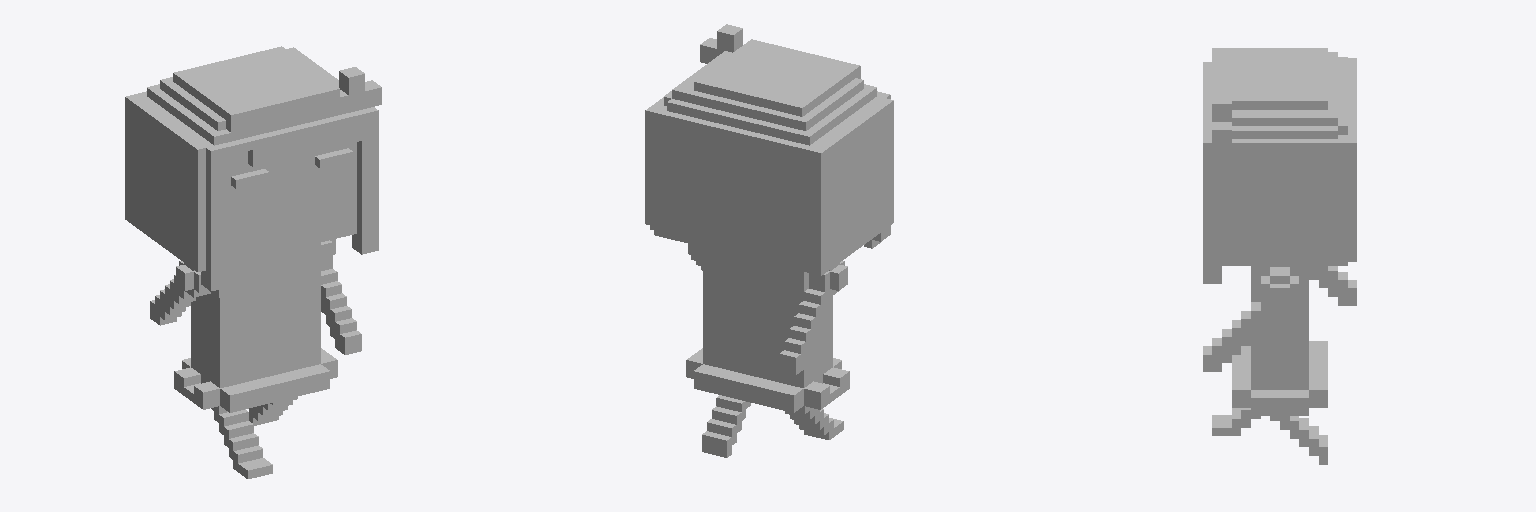
File: 1- Girl.obj
3 renders of one model, left to right at view 1: azimuth 30°, elevation 25°; view 2: azimuth 150°, elevation 25°; view 3: azimuth 270°, elevation 25°, orthographic.
Visible parts, largest first — view 1: character; view 2: character; view 3: character.
Part boxes in pixels (left/top/right/bottom): character: left=125, top=46, right=381, bottom=478; character: left=645, top=24, right=893, bottom=457; character: left=1203, top=48, right=1356, bottom=464.
Size of the model in its own units: 2.2 by 4.3 by 1.6.